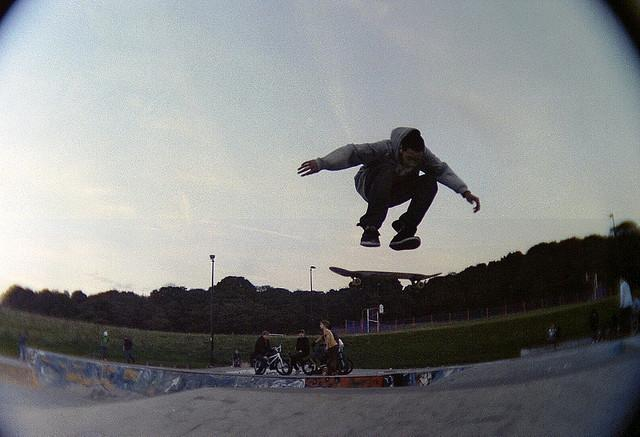bicycle: (304, 343, 352, 375), (255, 347, 292, 374)
